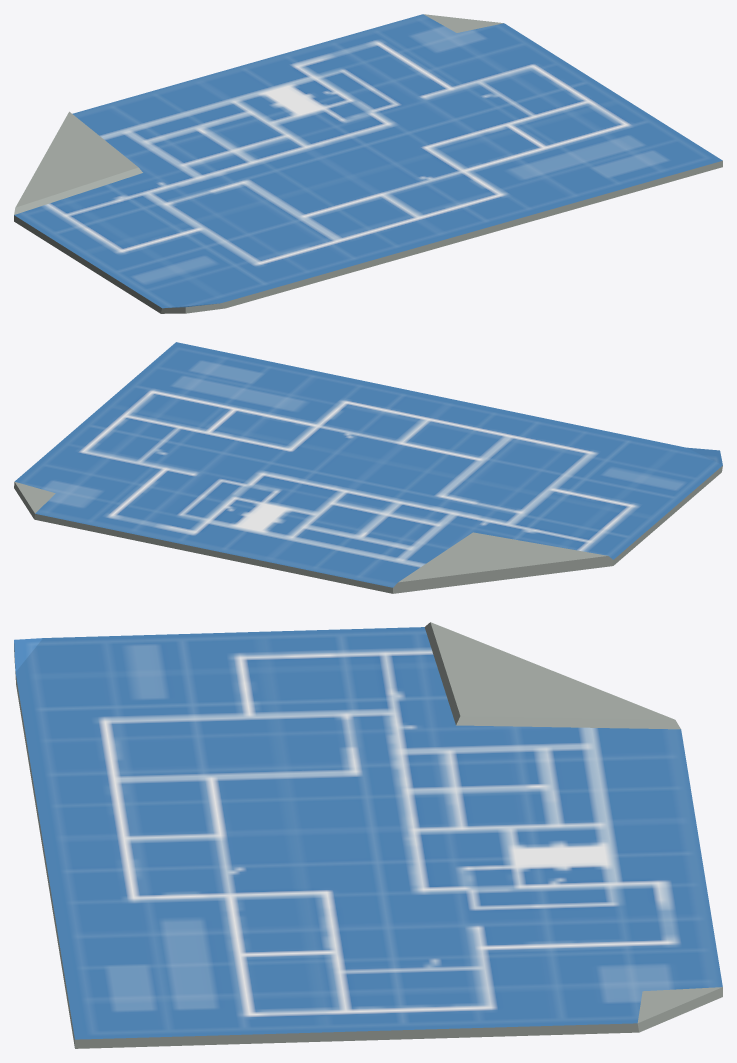
Rendered from SM_Prop_Plans_04.fbx.
3 views of the same model, one above another, from view 1: azimuth 30°, elevation 25°; view 2: azimuth 150°, elevation 25°; view 3: azimuth 270°, elevation 25° (orthographic). The views are drawn at different scales.
Parts seen in each view (by area): view 1: SM_Prop_Plans_04; view 2: SM_Prop_Plans_04; view 3: SM_Prop_Plans_04.
Part boxes in pixels (left/top/right/bottom): SM_Prop_Plans_04: left=14, top=14, right=722, bottom=313; SM_Prop_Plans_04: left=14, top=342, right=722, bottom=593; SM_Prop_Plans_04: left=14, top=622, right=722, bottom=1048.
Size of the model in its own units: 89.5 by 1.7 by 65.
